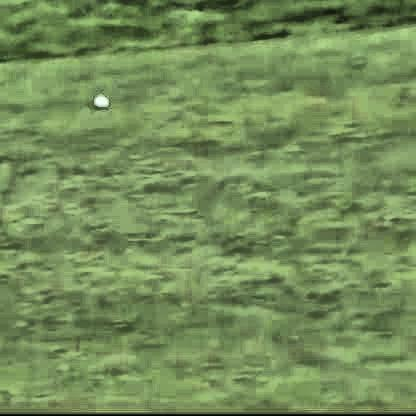golfball: (89, 92, 108, 108)
